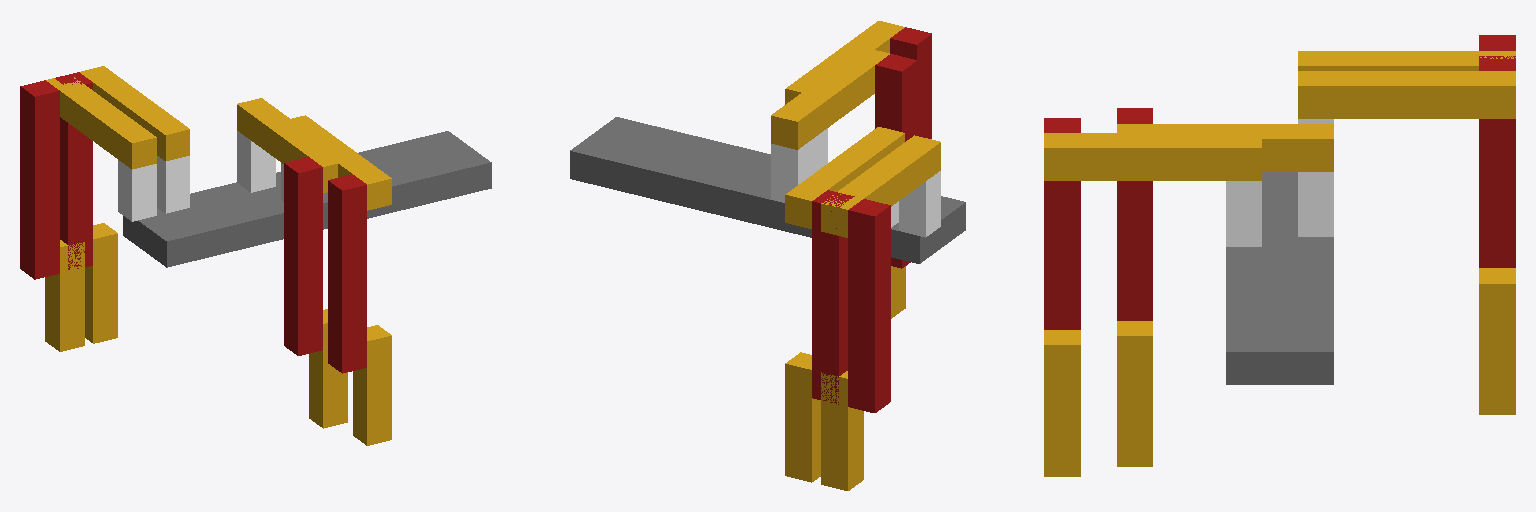
The robot description file, URDF, robot "v0":
<?xml version="1.0" encoding="utf-8"?>
<!-- =================================================================================== -->
<!-- |    This document was autogenerated by xacro from ../robots/v0variants/xacros/v0_4l_5.xacro | -->
<!-- |    EDITING THIS FILE BY HAND IS NOT RECOMMENDED                                 | -->
<!-- =================================================================================== -->
<robot name="v0">
  <material name="grey">
    <color rgba="0.5 0.5 0.5 1"/>
  </material>
  <material name="white">
    <color rgba="1 1 1 1"/>
  </material>
  <material name="yellow">
    <color rgba="0.91 0.7 0.14 1"/>
  </material>
  <material name="red">
    <color rgba="0.71 0.14 0.14 1"/>
  </material>
  <link name="body">
    <visual>
      <geometry>
        <box size="1.3 0.3 0.1"/>
      </geometry>
      <material name="grey"/>
      <origin rpy="0 0 0" xyz="0 0 0.7"/>
    </visual>
    <collision>
      <geometry>
        <box size="1.3 0.3 0.1"/>
      </geometry>
      <origin rpy="0 0 0" xyz="0 0 0.7"/>
    </collision>
    <inertial>
      <mass value="99.84"/>
      <inertia ixx="0.832" ixy="0.0" ixz="0.0" iyy="14.144" iyz="0.0" izz="14.8096"/>
    </inertial>
  </link>
  <link name="l1_segment_1">
    <visual>
      <geometry>
        <box size="0.1 0.1 0.2"/>
      </geometry>
      <material name="white"/>
      <origin rpy="0 0 0" xyz="0 0 0.1"/>
    </visual>
    <collision>
      <geometry>
        <box size="0.1 0.1 0.2"/>
      </geometry>
      <origin rpy="0 0 0" xyz="0 0 0.1"/>
    </collision>
    <inertial>
      <mass value="5.12"/>
      <inertia ixx="0.0213333333333" ixy="0.0" ixz="0.0" iyy="0.0213333333333" iyz="0.0" izz="0.00853333333333"/>
    </inertial>
  </link>
  <joint name="l1_base_to_joint_1" type="fixed">
    <parent link="body"/>
    <child link="l1_segment_1"/>
    <origin rpy="0 0 0" xyz="-0.6236120005732632 0.1 0.75"/>
  </joint>
  <link name="l1_segment_2_HIP">
    <visual>
      <geometry>
        <box size="0.1 0.6 0.1"/>
      </geometry>
      <material name="yellow"/>
      <origin rpy="0 0 0" xyz="0 0.25 0"/>
    </visual>
    <collision>
      <geometry>
        <box size="0.1 0.6 0.1"/>
      </geometry>
      <origin rpy="0 0 0" xyz="0 0.25 0"/>
    </collision>
    <inertial>
      <mass value="15.36"/>
      <inertia ixx="0.4736" ixy="0.0" ixz="0.0" iyy="0.0256" iyz="0.0" izz="0.4736"/>
    </inertial>
  </link>
  <joint name="l1_joint_1_to_2" type="revolute">
    <parent link="l1_segment_1"/>
    <child link="l1_segment_2_HIP"/>
    <origin rpy="0 0 0" xyz="0 0 0.25"/>
    <axis xyz="0.0 0.0 1.0"/>
    <limit effort="2048" lower="-1.2" upper="1.2" velocity="20"/>
  </joint>
  <link name="l1_segment_3_THIGH">
    <visual>
      <geometry>
        <box size="0.1 0.1 0.7"/>
      </geometry>
      <material name="red"/>
      <origin rpy="0 0 0" xyz="0 0 -0.3"/>
    </visual>
    <collision>
      <geometry>
        <box size="0.1 0.1 0.7"/>
      </geometry>
      <origin rpy="0 0 0" xyz="0 0 -0.3"/>
    </collision>
    <inertial>
      <mass value="17.92"/>
      <inertia ixx="0.746666666667" ixy="0.0" ixz="0.0" iyy="0.746666666667" iyz="0.0" izz="0.0298666666667"/>
    </inertial>
  </link>
  <joint name="l1_joint_2_to_3" type="revolute">
    <parent link="l1_segment_2_HIP"/>
    <child link="l1_segment_3_THIGH"/>
    <origin rpy="0 0 0" xyz="-0.1 0.5 0"/>
    <axis xyz="1.0 0.0 0.0"/>
    <limit effort="2048" lower="-0.2" upper="0.75" velocity="20"/>
  </joint>
  <link name="l1_segment_4_FOOT">
    <visual>
      <geometry>
        <box size="0.1 0.1 0.4"/>
      </geometry>
      <material name="yellow"/>
      <origin rpy="0 0 0" xyz="0 0 -0.2"/>
    </visual>
    <collision>
      <geometry>
        <box size="0.1 0.1 0.4"/>
      </geometry>
      <origin rpy="0 0 0" xyz="0 0 -0.2"/>
    </collision>
    <inertial>
      <mass value="10.24"/>
      <inertia ixx="0.145066666667" ixy="0.0" ixz="0.0" iyy="0.145066666667" iyz="0.0" izz="0.0170666666667"/>
    </inertial>
  </link>
  <joint name="l1_joint_3_to_4_FOOT" type="revolute">
    <parent link="l1_segment_3_THIGH"/>
    <child link="l1_segment_4_FOOT"/>
    <origin rpy="0 0 0" xyz="0.1 0 -0.55"/>
    <axis xyz="1.0 0.0 0.0"/>
    <limit effort="2048" lower="-0.2" upper="0.5" velocity="20"/>
  </joint>
  <link name="r2_segment_1">
    <visual>
      <geometry>
        <box size="0.1 0.1 0.2"/>
      </geometry>
      <material name="white"/>
      <origin rpy="0 0 0" xyz="0 0 0.1"/>
    </visual>
    <collision>
      <geometry>
        <box size="0.1 0.1 0.2"/>
      </geometry>
      <origin rpy="0 0 0" xyz="0 0 0.1"/>
    </collision>
    <inertial>
      <mass value="5.12"/>
      <inertia ixx="0.0213333333333" ixy="0.0" ixz="0.0" iyy="0.0213333333333" iyz="0.0" izz="0.00853333333333"/>
    </inertial>
  </link>
  <joint name="r2_base_to_joint_1" type="fixed">
    <parent link="body"/>
    <child link="r2_segment_1"/>
    <origin rpy="0 0 0" xyz="-0.08611452047337576 -0.1 0.75"/>
  </joint>
  <link name="r2_segment_2_HIP">
    <visual>
      <geometry>
        <box size="0.1 0.6 0.1"/>
      </geometry>
      <material name="yellow"/>
      <origin rpy="0 0 0" xyz="0 -0.25 0"/>
    </visual>
    <collision>
      <geometry>
        <box size="0.1 0.6 0.1"/>
      </geometry>
      <origin rpy="0 0 0" xyz="0 -0.25 0"/>
    </collision>
    <inertial>
      <mass value="15.36"/>
      <inertia ixx="0.4736" ixy="0.0" ixz="0.0" iyy="0.0256" iyz="0.0" izz="0.4736"/>
    </inertial>
  </link>
  <joint name="r2_joint_1_to_2" type="revolute">
    <parent link="r2_segment_1"/>
    <child link="r2_segment_2_HIP"/>
    <origin rpy="0 0 0" xyz="0 0 0.25"/>
    <axis xyz="0.0 0.0 1.0"/>
    <limit effort="2048" lower="-1.2" upper="1.2" velocity="20"/>
  </joint>
  <link name="r2_segment_3_THIGH">
    <visual>
      <geometry>
        <box size="0.1 0.1 0.7"/>
      </geometry>
      <material name="red"/>
      <origin rpy="0 0 0" xyz="0 0 -0.3"/>
    </visual>
    <collision>
      <geometry>
        <box size="0.1 0.1 0.7"/>
      </geometry>
      <origin rpy="0 0 0" xyz="0 0 -0.3"/>
    </collision>
    <inertial>
      <mass value="17.92"/>
      <inertia ixx="0.746666666667" ixy="0.0" ixz="0.0" iyy="0.746666666667" iyz="0.0" izz="0.0298666666667"/>
    </inertial>
  </link>
  <joint name="r2_joint_2_to_3" type="revolute">
    <parent link="r2_segment_2_HIP"/>
    <child link="r2_segment_3_THIGH"/>
    <origin rpy="0 0 0" xyz="-0.1 -0.5 0"/>
    <axis xyz="1.0 0.0 0.0"/>
    <limit effort="2048" lower="-0.75" upper="0.2" velocity="20"/>
  </joint>
  <link name="r2_segment_4_FOOT">
    <visual>
      <geometry>
        <box size="0.1 0.1 0.4"/>
      </geometry>
      <material name="yellow"/>
      <origin rpy="0 0 0" xyz="0 0 -0.2"/>
    </visual>
    <collision>
      <geometry>
        <box size="0.1 0.1 0.4"/>
      </geometry>
      <origin rpy="0 0 0" xyz="0 0 -0.2"/>
    </collision>
    <inertial>
      <mass value="10.24"/>
      <inertia ixx="0.145066666667" ixy="0.0" ixz="0.0" iyy="0.145066666667" iyz="0.0" izz="0.0170666666667"/>
    </inertial>
  </link>
  <joint name="r2_joint_3_to_4_FOOT" type="revolute">
    <parent link="r2_segment_3_THIGH"/>
    <child link="r2_segment_4_FOOT"/>
    <origin rpy="0 0 0" xyz="0.1 0 -0.55"/>
    <axis xyz="1.0 0.0 0.0"/>
    <limit effort="2048" lower="-0.5" upper="0.2" velocity="20"/>
  </joint>
  <link name="l3_segment_1">
    <visual>
      <geometry>
        <box size="0.1 0.1 0.2"/>
      </geometry>
      <material name="white"/>
      <origin rpy="0 0 0" xyz="0 0 0.1"/>
    </visual>
    <collision>
      <geometry>
        <box size="0.1 0.1 0.2"/>
      </geometry>
      <origin rpy="0 0 0" xyz="0 0 0.1"/>
    </collision>
    <inertial>
      <mass value="5.12"/>
      <inertia ixx="0.0213333333333" ixy="0.0" ixz="0.0" iyy="0.0213333333333" iyz="0.0" izz="0.00853333333333"/>
    </inertial>
  </link>
  <joint name="l3_base_to_joint_1" type="fixed">
    <parent link="body"/>
    <child link="l3_segment_1"/>
    <origin rpy="0 0 0" xyz="-0.4895118189284208 0.1 0.75"/>
  </joint>
  <link name="l3_segment_2_HIP">
    <visual>
      <geometry>
        <box size="0.1 0.6 0.1"/>
      </geometry>
      <material name="yellow"/>
      <origin rpy="0 0 0" xyz="0 0.25 0"/>
    </visual>
    <collision>
      <geometry>
        <box size="0.1 0.6 0.1"/>
      </geometry>
      <origin rpy="0 0 0" xyz="0 0.25 0"/>
    </collision>
    <inertial>
      <mass value="15.36"/>
      <inertia ixx="0.4736" ixy="0.0" ixz="0.0" iyy="0.0256" iyz="0.0" izz="0.4736"/>
    </inertial>
  </link>
  <joint name="l3_joint_1_to_2" type="revolute">
    <parent link="l3_segment_1"/>
    <child link="l3_segment_2_HIP"/>
    <origin rpy="0 0 0" xyz="0 0 0.25"/>
    <axis xyz="0.0 0.0 1.0"/>
    <limit effort="2048" lower="-1.2" upper="1.2" velocity="20"/>
  </joint>
  <link name="l3_segment_3_THIGH">
    <visual>
      <geometry>
        <box size="0.1 0.1 0.7"/>
      </geometry>
      <material name="red"/>
      <origin rpy="0 0 0" xyz="0 0 -0.3"/>
    </visual>
    <collision>
      <geometry>
        <box size="0.1 0.1 0.7"/>
      </geometry>
      <origin rpy="0 0 0" xyz="0 0 -0.3"/>
    </collision>
    <inertial>
      <mass value="17.92"/>
      <inertia ixx="0.746666666667" ixy="0.0" ixz="0.0" iyy="0.746666666667" iyz="0.0" izz="0.0298666666667"/>
    </inertial>
  </link>
  <joint name="l3_joint_2_to_3" type="revolute">
    <parent link="l3_segment_2_HIP"/>
    <child link="l3_segment_3_THIGH"/>
    <origin rpy="0 0 0" xyz="-0.1 0.5 0"/>
    <axis xyz="1.0 0.0 0.0"/>
    <limit effort="2048" lower="-0.2" upper="0.75" velocity="20"/>
  </joint>
  <link name="l3_segment_4_FOOT">
    <visual>
      <geometry>
        <box size="0.1 0.1 0.4"/>
      </geometry>
      <material name="yellow"/>
      <origin rpy="0 0 0" xyz="0 0 -0.2"/>
    </visual>
    <collision>
      <geometry>
        <box size="0.1 0.1 0.4"/>
      </geometry>
      <origin rpy="0 0 0" xyz="0 0 -0.2"/>
    </collision>
    <inertial>
      <mass value="10.24"/>
      <inertia ixx="0.145066666667" ixy="0.0" ixz="0.0" iyy="0.145066666667" iyz="0.0" izz="0.0170666666667"/>
    </inertial>
  </link>
  <joint name="l3_joint_3_to_4_FOOT" type="revolute">
    <parent link="l3_segment_3_THIGH"/>
    <child link="l3_segment_4_FOOT"/>
    <origin rpy="0 0 0" xyz="0.1 0 -0.55"/>
    <axis xyz="1.0 0.0 0.0"/>
    <limit effort="2048" lower="-0.2" upper="0.5" velocity="20"/>
  </joint>
  <link name="r4_segment_1">
    <visual>
      <geometry>
        <box size="0.1 0.1 0.2"/>
      </geometry>
      <material name="white"/>
      <origin rpy="0 0 0" xyz="0 0 0.1"/>
    </visual>
    <collision>
      <geometry>
        <box size="0.1 0.1 0.2"/>
      </geometry>
      <origin rpy="0 0 0" xyz="0 0 0.1"/>
    </collision>
    <inertial>
      <mass value="5.12"/>
      <inertia ixx="0.0213333333333" ixy="0.0" ixz="0.0" iyy="0.0213333333333" iyz="0.0" izz="0.00853333333333"/>
    </inertial>
  </link>
  <joint name="r4_base_to_joint_1" type="fixed">
    <parent link="body"/>
    <child link="r4_segment_1"/>
    <origin rpy="0 0 0" xyz="-0.14695024532491796 0.1 0.75"/>
  </joint>
  <link name="r4_segment_2_HIP">
    <visual>
      <geometry>
        <box size="0.1 0.6 0.1"/>
      </geometry>
      <material name="yellow"/>
      <origin rpy="0 0 0" xyz="0 -0.25 0"/>
    </visual>
    <collision>
      <geometry>
        <box size="0.1 0.6 0.1"/>
      </geometry>
      <origin rpy="0 0 0" xyz="0 -0.25 0"/>
    </collision>
    <inertial>
      <mass value="15.36"/>
      <inertia ixx="0.4736" ixy="0.0" ixz="0.0" iyy="0.0256" iyz="0.0" izz="0.4736"/>
    </inertial>
  </link>
  <joint name="r4_joint_1_to_2" type="revolute">
    <parent link="r4_segment_1"/>
    <child link="r4_segment_2_HIP"/>
    <origin rpy="0 0 0" xyz="0 0 0.25"/>
    <axis xyz="0.0 0.0 1.0"/>
    <limit effort="2048" lower="-1.2" upper="1.2" velocity="20"/>
  </joint>
  <link name="r4_segment_3_THIGH">
    <visual>
      <geometry>
        <box size="0.1 0.1 0.7"/>
      </geometry>
      <material name="red"/>
      <origin rpy="0 0 0" xyz="0 0 -0.3"/>
    </visual>
    <collision>
      <geometry>
        <box size="0.1 0.1 0.7"/>
      </geometry>
      <origin rpy="0 0 0" xyz="0 0 -0.3"/>
    </collision>
    <inertial>
      <mass value="17.92"/>
      <inertia ixx="0.746666666667" ixy="0.0" ixz="0.0" iyy="0.746666666667" iyz="0.0" izz="0.0298666666667"/>
    </inertial>
  </link>
  <joint name="r4_joint_2_to_3" type="revolute">
    <parent link="r4_segment_2_HIP"/>
    <child link="r4_segment_3_THIGH"/>
    <origin rpy="0 0 0" xyz="-0.1 -0.5 0"/>
    <axis xyz="1.0 0.0 0.0"/>
    <limit effort="2048" lower="-0.75" upper="0.2" velocity="20"/>
  </joint>
  <link name="r4_segment_4_FOOT">
    <visual>
      <geometry>
        <box size="0.1 0.1 0.4"/>
      </geometry>
      <material name="yellow"/>
      <origin rpy="0 0 0" xyz="0 0 -0.2"/>
    </visual>
    <collision>
      <geometry>
        <box size="0.1 0.1 0.4"/>
      </geometry>
      <origin rpy="0 0 0" xyz="0 0 -0.2"/>
    </collision>
    <inertial>
      <mass value="10.24"/>
      <inertia ixx="0.145066666667" ixy="0.0" ixz="0.0" iyy="0.145066666667" iyz="0.0" izz="0.0170666666667"/>
    </inertial>
  </link>
  <joint name="r4_joint_3_to_4_FOOT" type="revolute">
    <parent link="r4_segment_3_THIGH"/>
    <child link="r4_segment_4_FOOT"/>
    <origin rpy="0 0 0" xyz="0.1 0 -0.55"/>
    <axis xyz="1.0 0.0 0.0"/>
    <limit effort="2048" lower="-0.5" upper="0.2" velocity="20"/>
  </joint>
</robot>

--- Facts derived from the render (not from the file) ---
The picture shows the robot from 3 angles, left to right: view 1: azimuth 30°, elevation 25°; view 2: azimuth 150°, elevation 25°; view 3: azimuth 270°, elevation 25°; orthographic projection.
Robot: v0 — 17 links, 16 joints (12 revolute, 4 fixed); root link body; default pose: every joint at zero.
Visible links, largest first — view 1: body, l1_segment_3_THIGH, r4_segment_3_THIGH, r2_segment_3_THIGH, l1_segment_2_HIP, l3_segment_3_THIGH, r2_segment_4_FOOT, r4_segment_2_HIP, l1_segment_4_FOOT, l3_segment_2_HIP, l3_segment_4_FOOT, r4_segment_4_FOOT (+4 smaller); view 2: body, l1_segment_3_THIGH, l3_segment_3_THIGH, r4_segment_2_HIP, l1_segment_2_HIP, l1_segment_4_FOOT, l3_segment_4_FOOT, l3_segment_2_HIP, r4_segment_3_THIGH, r2_segment_3_THIGH, r2_segment_2_HIP, l1_segment_1 (+3 smaller); view 3: body, l3_segment_2_HIP, r2_segment_2_HIP, r2_segment_3_THIGH, l3_segment_3_THIGH, r4_segment_3_THIGH, r4_segment_2_HIP, r2_segment_4_FOOT, l3_segment_4_FOOT, r4_segment_4_FOOT, l1_segment_2_HIP, r2_segment_1 (+2 smaller).
Link boxes in pixels (bbox=[...]): body: bbox=[123, 131, 491, 267]; l1_segment_3_THIGH: bbox=[20, 80, 59, 279]; r4_segment_3_THIGH: bbox=[284, 157, 322, 355]; r2_segment_3_THIGH: bbox=[328, 174, 366, 373]; l1_segment_2_HIP: bbox=[46, 77, 156, 169]; l3_segment_3_THIGH: bbox=[55, 72, 92, 269]; r2_segment_4_FOOT: bbox=[353, 325, 391, 445]; r4_segment_2_HIP: bbox=[237, 98, 345, 192]; l1_segment_4_FOOT: bbox=[45, 240, 84, 351]; l3_segment_2_HIP: bbox=[80, 66, 189, 160]; l3_segment_4_FOOT: bbox=[85, 223, 117, 343]; r4_segment_4_FOOT: bbox=[309, 309, 347, 428]; body: bbox=[570, 117, 965, 263]; l1_segment_3_THIGH: bbox=[848, 199, 890, 412]; l3_segment_3_THIGH: bbox=[812, 190, 854, 404]; r4_segment_2_HIP: bbox=[771, 47, 889, 149]; l1_segment_2_HIP: bbox=[821, 135, 940, 237]; l1_segment_4_FOOT: bbox=[821, 371, 863, 490]; l3_segment_4_FOOT: bbox=[785, 352, 820, 482]; l3_segment_2_HIP: bbox=[785, 127, 904, 228]; r4_segment_3_THIGH: bbox=[875, 54, 917, 268]; r2_segment_3_THIGH: bbox=[890, 27, 931, 138]; r2_segment_2_HIP: bbox=[785, 21, 904, 104]; l1_segment_1: bbox=[899, 171, 940, 237]; body: bbox=[1226, 172, 1333, 384]; l3_segment_2_HIP: bbox=[1298, 71, 1515, 118]; r2_segment_2_HIP: bbox=[1044, 133, 1261, 180]; r2_segment_3_THIGH: bbox=[1044, 118, 1080, 329]; l3_segment_3_THIGH: bbox=[1479, 56, 1515, 267]; r4_segment_3_THIGH: bbox=[1117, 108, 1152, 320]; r4_segment_2_HIP: bbox=[1117, 124, 1333, 171]; r2_segment_4_FOOT: bbox=[1044, 330, 1080, 476]; l3_segment_4_FOOT: bbox=[1479, 268, 1515, 414]; r4_segment_4_FOOT: bbox=[1117, 321, 1152, 466]; l1_segment_2_HIP: bbox=[1298, 51, 1515, 70]; r2_segment_1: bbox=[1226, 181, 1261, 246].
Bounding box of the posed robot: 1.42 × 1.3 × 1 m (x, y, z).
Geometry: primitives only (box / cylinder / sphere), no mesh files.